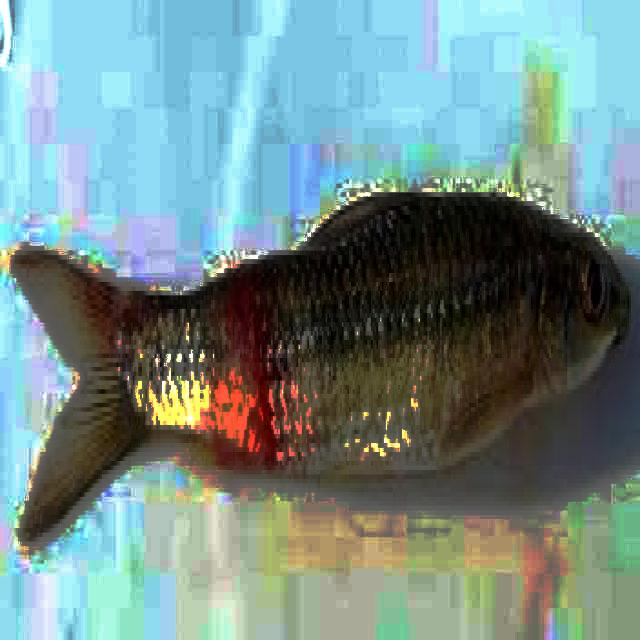Columnaris Disease: (13, 192, 629, 538)
